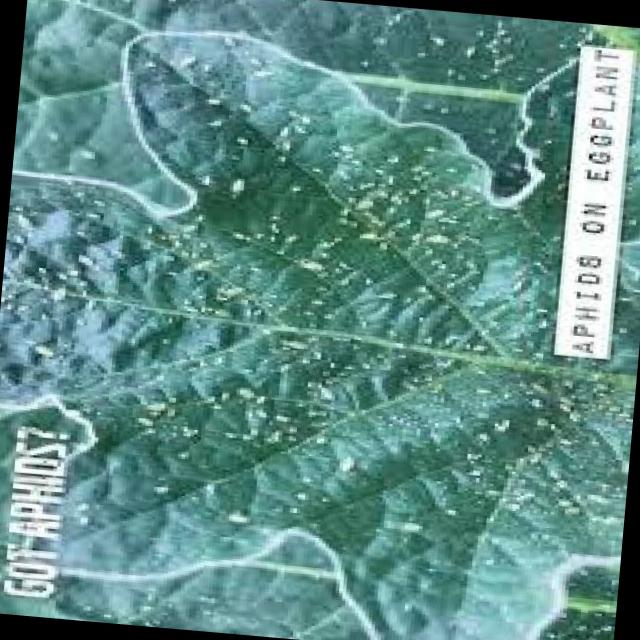aphid: (518, 376, 555, 402), (413, 202, 450, 226), (328, 454, 362, 480), (550, 499, 586, 523), (345, 226, 384, 248), (224, 382, 258, 407), (412, 230, 451, 251), (393, 515, 427, 539), (454, 460, 488, 484), (522, 410, 556, 434), (214, 510, 253, 530), (309, 383, 339, 408), (486, 414, 516, 438), (364, 288, 400, 308), (278, 178, 308, 202), (464, 427, 498, 448), (298, 345, 328, 368), (210, 423, 240, 446), (506, 488, 538, 508), (462, 382, 494, 402), (546, 432, 578, 452), (458, 340, 491, 359), (494, 499, 526, 518), (522, 302, 554, 321), (430, 332, 460, 352), (221, 225, 247, 248), (390, 597, 419, 617), (472, 553, 501, 573), (547, 494, 576, 514), (521, 346, 550, 366), (266, 359, 295, 379), (230, 362, 259, 382), (519, 448, 545, 470), (142, 482, 172, 500), (458, 297, 488, 315), (264, 300, 294, 318), (433, 503, 462, 521), (549, 392, 578, 410), (524, 316, 553, 334), (473, 210, 502, 228), (548, 400, 574, 420), (374, 171, 400, 191), (500, 263, 526, 283), (412, 142, 444, 158), (326, 204, 354, 222), (236, 260, 264, 278), (248, 324, 276, 342), (306, 432, 331, 452), (274, 230, 299, 250), (296, 296, 329, 311), (352, 273, 376, 293), (376, 201, 400, 221), (500, 342, 526, 360), (502, 277, 528, 295), (416, 254, 442, 272), (330, 272, 356, 290), (430, 298, 456, 316), (463, 364, 492, 380), (432, 278, 461, 294), (423, 258, 452, 274), (265, 412, 294, 428), (328, 257, 357, 273), (317, 264, 346, 280), (266, 150, 288, 170), (278, 429, 300, 449), (262, 208, 284, 228), (564, 621, 590, 637), (404, 312, 430, 328), (410, 332, 434, 349), (301, 164, 326, 180), (258, 288, 280, 306), (314, 309, 338, 325), (442, 413, 466, 429), (419, 418, 442, 434), (422, 443, 446, 458), (333, 360, 355, 376), (242, 305, 264, 321), (538, 231, 560, 247), (351, 361, 376, 375), (436, 164, 460, 178), (384, 350, 408, 364), (378, 412, 400, 426)
